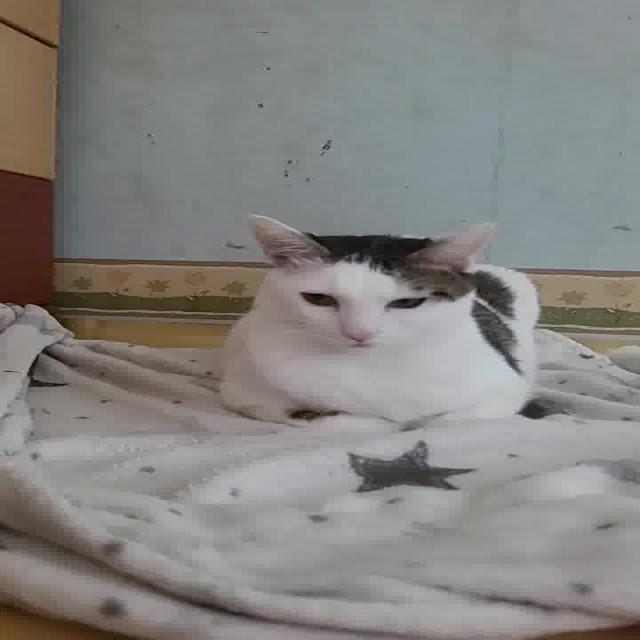cat: (218, 212, 543, 438)
